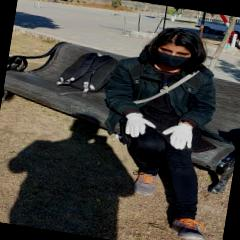gloved: (162, 120, 196, 150), (125, 112, 155, 140)
